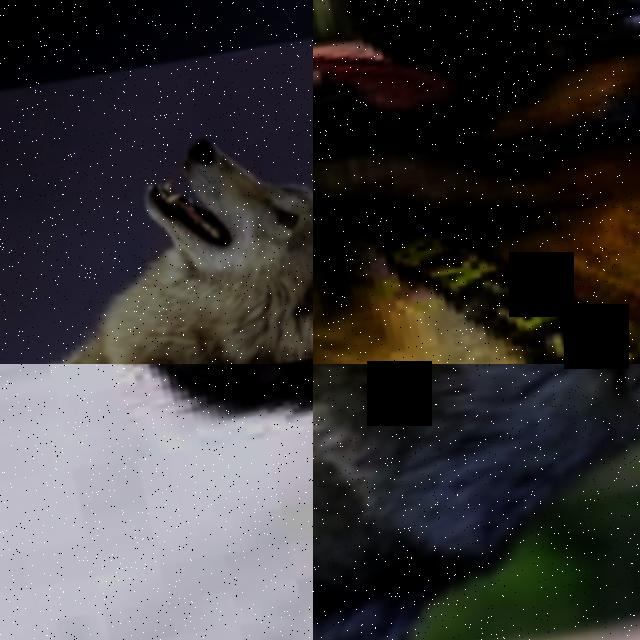dog: (313, 0, 640, 364)
wolf: (313, 364, 640, 640), (0, 88, 313, 364), (0, 182, 313, 364), (0, 364, 313, 532), (0, 0, 313, 160)
